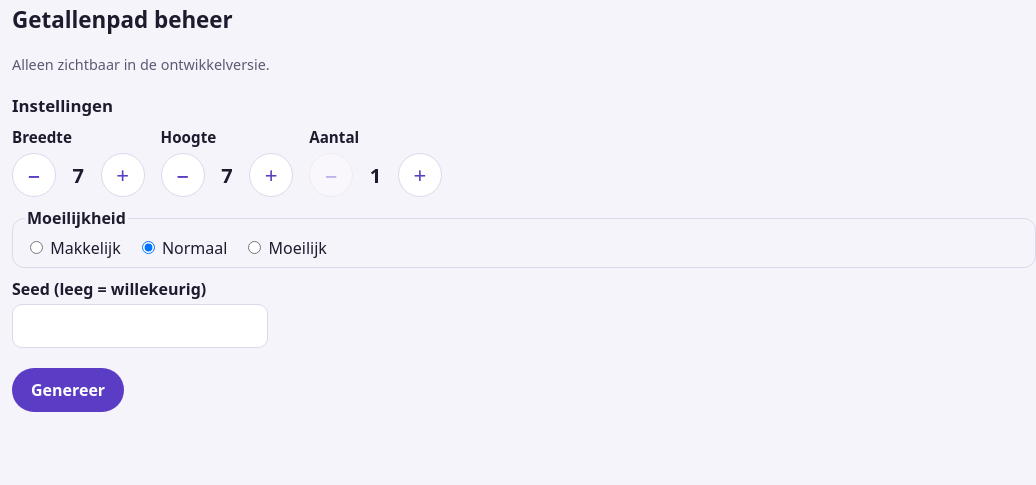
Scenario: getallenpad BeheerPage › rejects a seed that is too large
Type "99999999999" into the field labelled "Seed (leeg = willekeurig)" at point(140, 326), box x1=12 y1=304 x2=268 y2=348
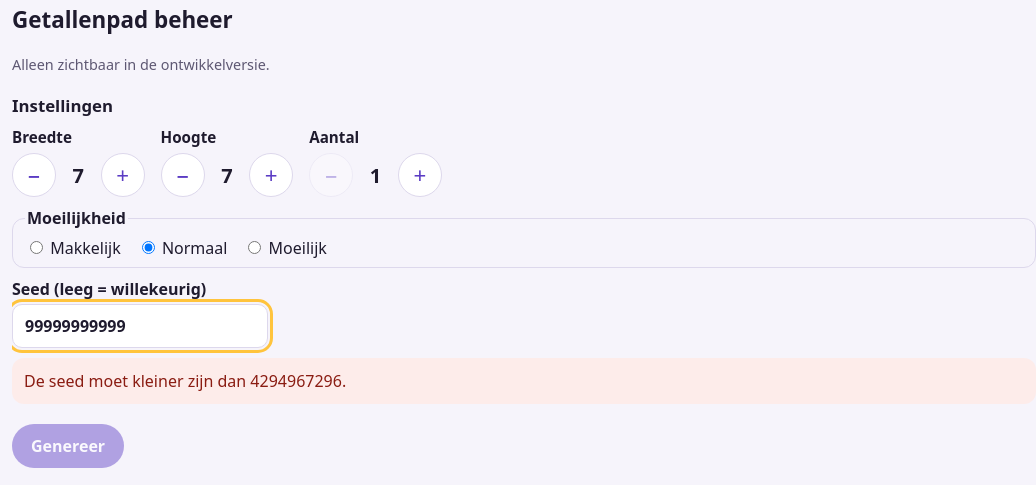
Check: the message shows "kleiner zijn dan 4294967296", box x1=24 y1=370 x2=346 y2=392
Check: the button "Genereer" is disabled, box x1=12 y1=424 x2=124 y2=468
